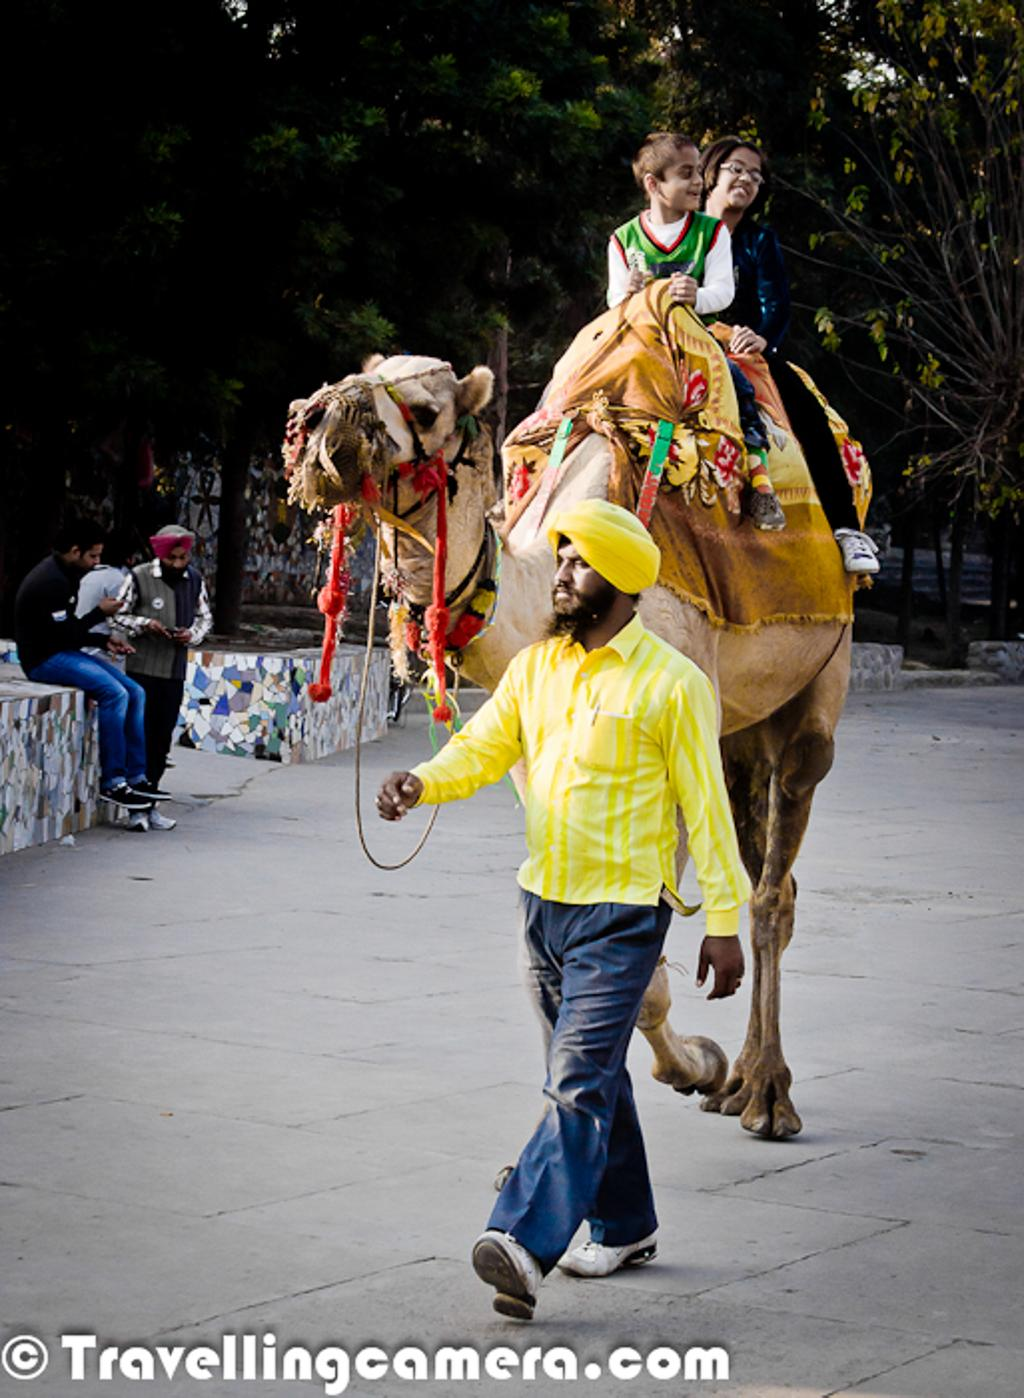face: (552, 534, 607, 613), (713, 148, 761, 207), (657, 145, 702, 210), (163, 541, 187, 576), (74, 544, 102, 571)
